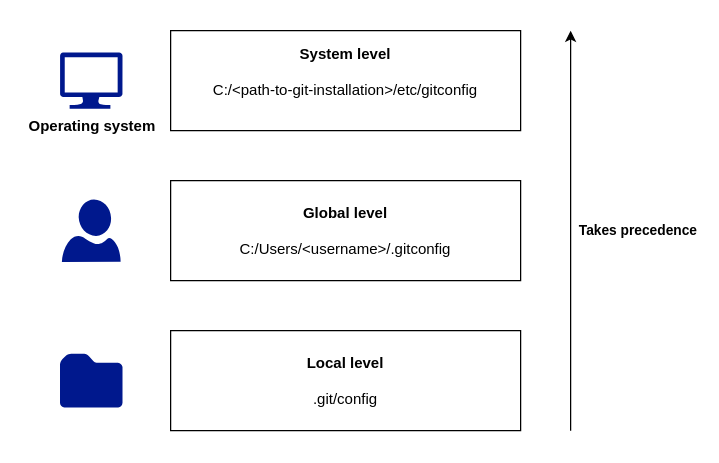
Some shapes in this 719 by 463 pixel diagram are drawn without their labels. Each missing label, with the centre of its shape:
"Repository specific" belongs at pixel 90 380.
"User specific" belongs at pixel 90 230.
